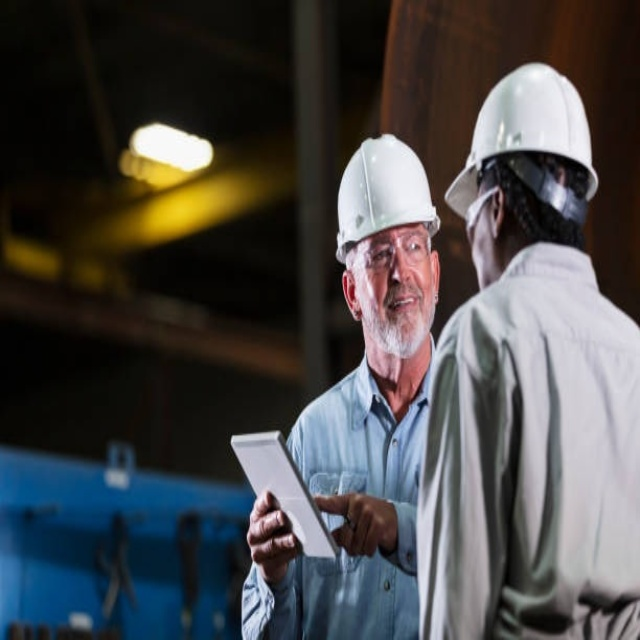Gafas: (351, 226, 432, 272), (463, 182, 496, 244)
Sin_guantes: (313, 490, 398, 562), (247, 488, 301, 578)
Sin_mascara: (382, 282, 422, 339)
